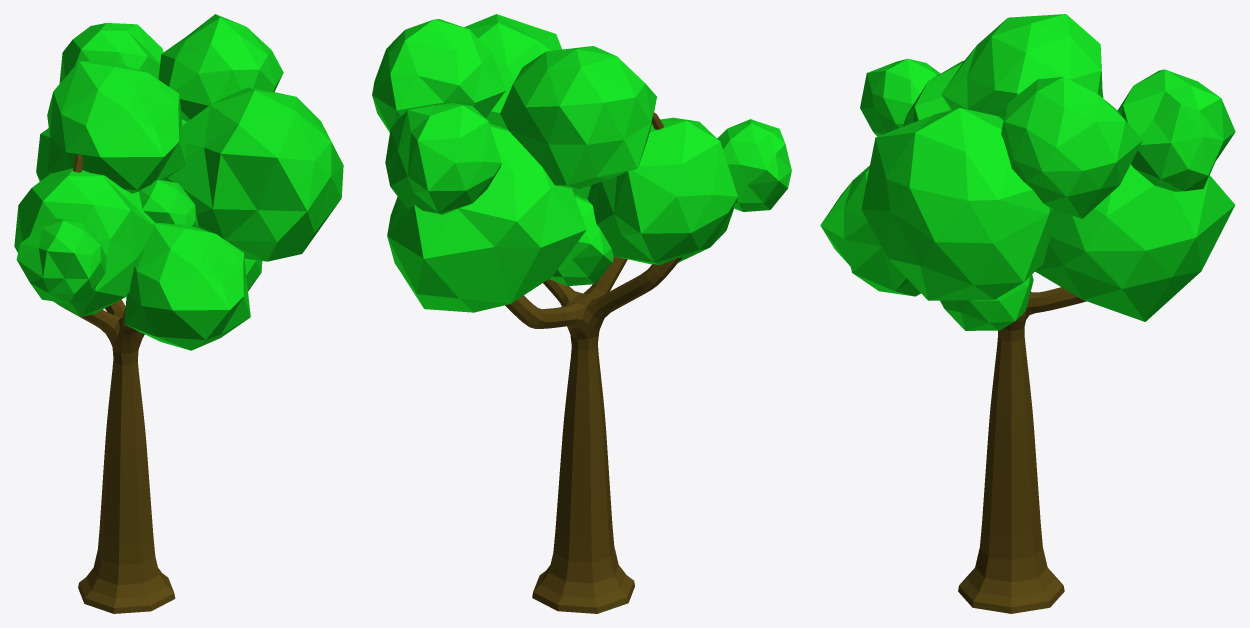
Rendered from Tree1.fbx.
3 renders of one model, left to right at view 1: azimuth 30°, elevation 25°; view 2: azimuth 150°, elevation 25°; view 3: azimuth 270°, elevation 25°, orthographic. The views are drawn at different scales.
Visible parts, largest first — view 1: Icosphere, Plane; view 2: Icosphere, Plane; view 3: Icosphere, Plane.
Part boxes in pixels (x1,y1,x2,y2): Icosphere: (14, 14, 343, 350); Plane: (57, 154, 175, 613); Icosphere: (372, 14, 791, 312); Plane: (505, 112, 682, 613); Icosphere: (820, 14, 1235, 330); Plane: (958, 287, 1086, 613).
Size of the model in its own units: 752 by 750 by 1165.
